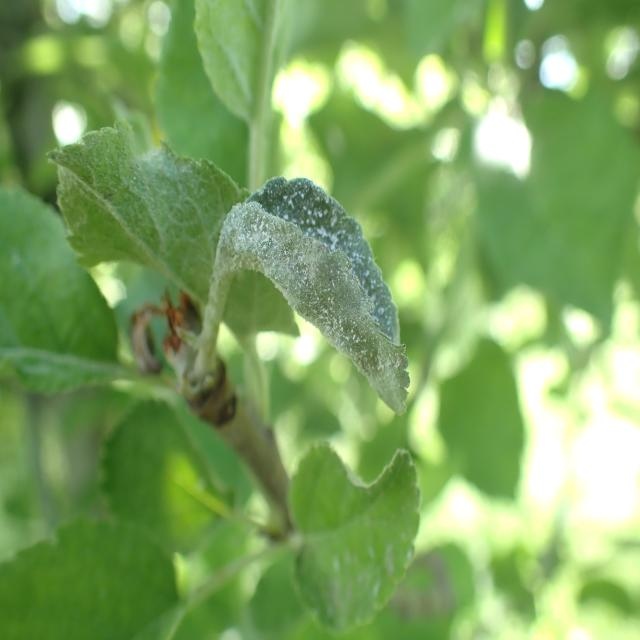Powdery_mildew: (185, 172, 415, 417)
